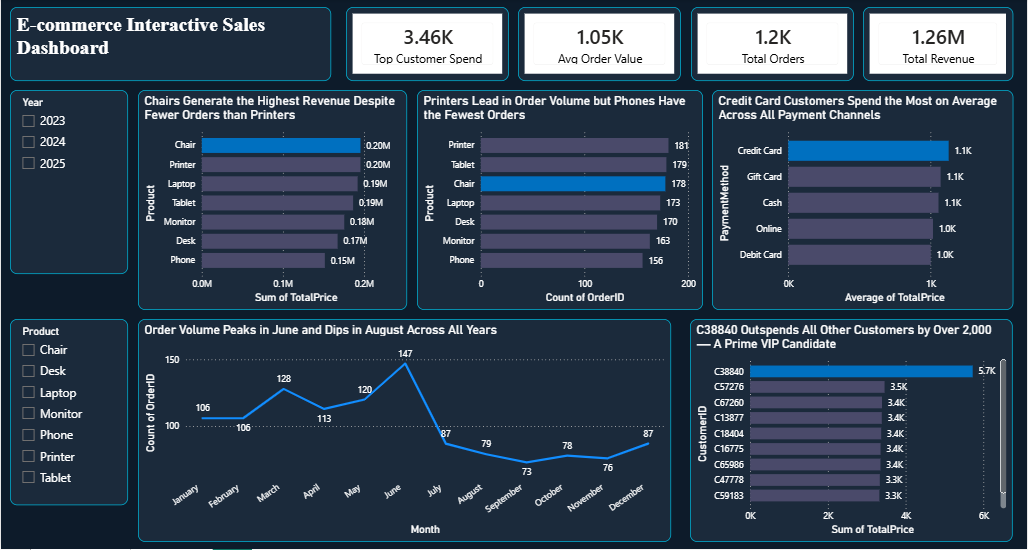

The dashboard page shown, as its layout file describes it:
{"tool":"powerbi","page":{"name":"Dashboard","canvas":[1400,750],"ordinal":0},"visuals":[{"type":"clusteredBarChart","title":"Chairs Generate the Highest Revenue  Despite Fewer Orders than Printers","fields":{"Category":["EcommerceClean.Product"],"Y":["Sum(EcommerceClean.TotalPrice)"]},"box":[186.7,123.4,367.3,299.6],"z":0},{"type":"clusteredBarChart","title":"Printers Lead in Order Volume but Phones Have the Fewest Orders","fields":{"Category":["EcommerceClean.Product"],"Y":["CountNonNull(EcommerceClean.OrderID)"]},"box":[566.8,123.4,389.9,299.6],"z":1000},{"type":"lineChart","title":"Order Volume Peaks in June and Dips in August Across All Years","fields":{"Y":["CountNonNull(EcommerceClean.OrderID)"],"Category":["EcommerceClean.Date.Variation.Date Hierarchy.Month"]},"box":[186.8,436.4,726.8,304.1],"z":2000},{"type":"clusteredBarChart","title":"Credit Card Customers Spend the Most on Average Across All Payment Channels","fields":{"Category":["EcommerceClean.PaymentMethod"],"Y":["Avg(EcommerceClean.TotalPrice)"]},"box":[969.5,123.4,411,299.6],"z":3000},{"type":"clusteredBarChart","title":"C38840 Outspends All Other Customers by Over 2,000 — A Prime VIP Candidate","fields":{"Category":["EcommerceClean.CustomerID"],"Y":["Sum(EcommerceClean.TotalPrice)"]},"box":[939.5,436.4,440.5,304.1],"z":4000},{"type":"cardVisual","title":"Total Revenue","fields":{"Data":["Sum(EcommerceClean.TotalPrice)"]},"box":[1175.7,10.9,204.7,100.9],"z":5000},{"type":"cardVisual","title":"Total Orders","fields":{"Data":["CountNonNull(EcommerceClean.OrderID)"]},"box":[940.6,10.8,222.3,100.9],"z":6000},{"type":"cardVisual","fields":{"Data":["Avg(EcommerceClean.TotalPrice)"]},"box":[705.5,10.8,222.3,100.9],"z":7000},{"type":"cardVisual","fields":{"Data":["Max(EcommerceClean.TotalPrice)"]},"box":[470.5,10.8,222.3,100.9],"z":8000},{"type":"slicer","fields":{"Values":["EcommerceClean.Date.Variation.Date Hierarchy.Year"]},"box":[12,123.4,161.1,251.4],"z":9000},{"type":"slicer","fields":{"Values":["EcommerceClean.Product"]},"box":[12,436.6,161.1,254.4],"z":10000},{"type":"textbox","box":[12,10.5,438.1,100.9],"z":11000}]}

Visuals, with their boxes in screenshot pixels (x1, y1, x2, y2), scaled from the page's 1400x750 canvas onto the 1028x550 screenshot:
"Chairs Generate the Highest Revenue  Despite Fewer Orders than Printers" clusteredBarChart: pyautogui.locateOnScreen(137, 90, 407, 310)
"Printers Lead in Order Volume but Phones Have the Fewest Orders" clusteredBarChart: pyautogui.locateOnScreen(416, 90, 702, 310)
"Order Volume Peaks in June and Dips in August Across All Years" lineChart: pyautogui.locateOnScreen(137, 320, 671, 543)
"Credit Card Customers Spend the Most on Average Across All Payment Channels" clusteredBarChart: pyautogui.locateOnScreen(712, 90, 1014, 310)
"C38840 Outspends All Other Customers by Over 2,000 — A Prime VIP Candidate" clusteredBarChart: pyautogui.locateOnScreen(690, 320, 1013, 543)
"Total Revenue" cardVisual: pyautogui.locateOnScreen(863, 8, 1014, 82)
"Total Orders" cardVisual: pyautogui.locateOnScreen(691, 8, 854, 82)
cardVisual - Avg(EcommerceClean.TotalPrice): pyautogui.locateOnScreen(518, 8, 681, 82)
cardVisual - Max(EcommerceClean.TotalPrice): pyautogui.locateOnScreen(345, 8, 509, 82)
slicer - EcommerceClean.Date.Variation.Date Hierarchy.Year: pyautogui.locateOnScreen(9, 90, 127, 275)
slicer - EcommerceClean.Product: pyautogui.locateOnScreen(9, 320, 127, 507)
textbox: pyautogui.locateOnScreen(9, 8, 331, 82)
